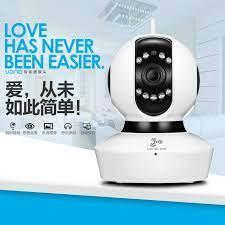tutu: (102, 30, 205, 122)
